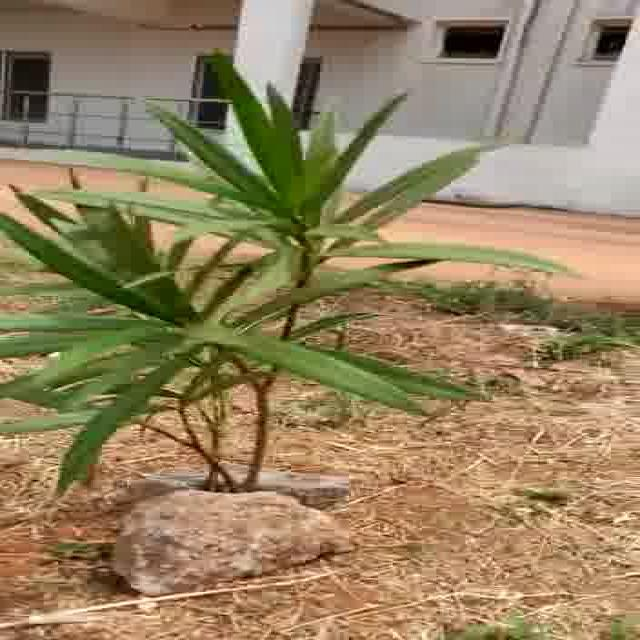OLEANDER: (0, 60, 546, 497)
